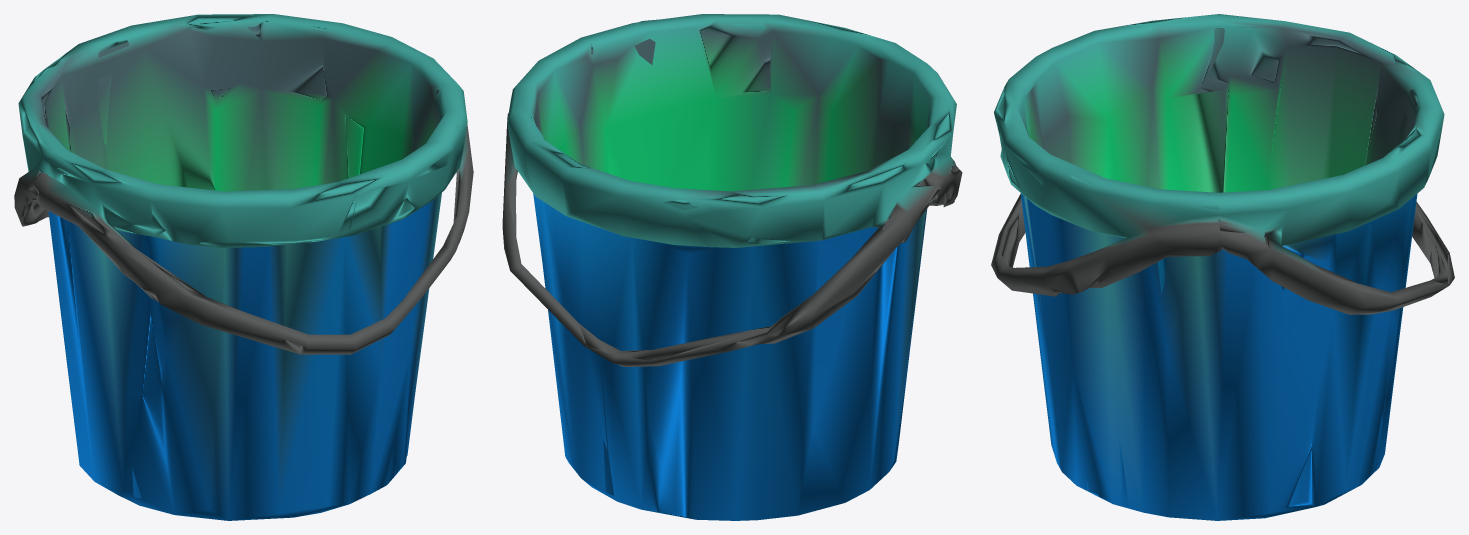
Rendered from gen3d-paint-bucket-lod1.glb.
The picture shows the model from 3 angles, left to right: view 1: azimuth 30°, elevation 25°; view 2: azimuth 150°, elevation 25°; view 3: azimuth 270°, elevation 25°; orthographic projection.
Parts seen in each view (by area): view 1: part_0; view 2: part_0; view 3: part_0.
Boxes of the visible parts, <box> form: part_0: <box>14,14,473,520</box>; part_0: <box>502,14,962,520</box>; part_0: <box>991,14,1454,520</box>.
Bounding box in the file's own units: 1.26 × 0.9996 × 1.22.
